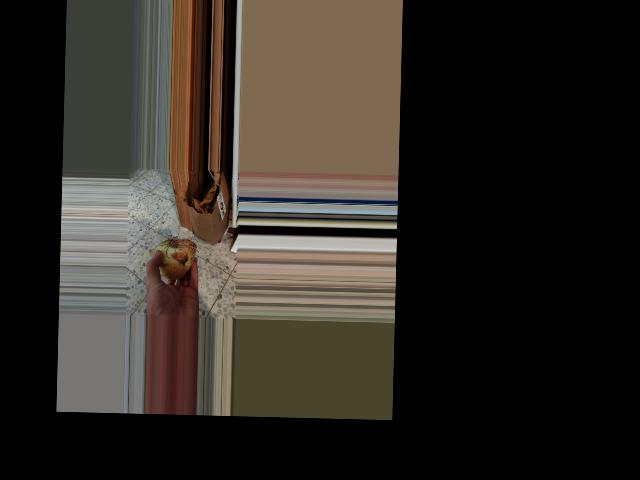onion: (150, 236, 197, 282)
